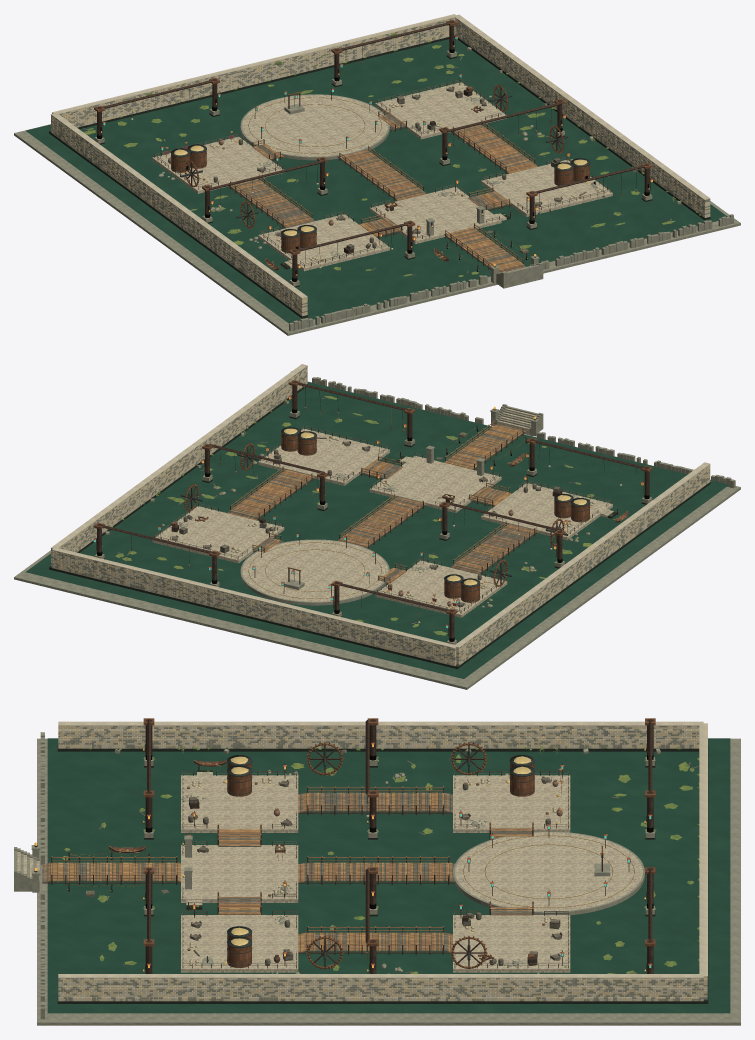
The model's file is mill-cellar.glb.
3 renders of one model, top to bottom at view 1: azimuth 30°, elevation 25°; view 2: azimuth 150°, elevation 25°; view 3: azimuth 270°, elevation 25°, orthographic. The views are drawn at different scales.
Parts seen in each view (by area): view 1: Water surface | water, Raised flagstone rooms | paving, Boundary / individual masonry blocks | stone, Boundary / individual masonry blocks | plaster, Boundary / individual masonry blocks | wall, Spirit arena paved surface | paving, Cellar foundation | stone, Boundary / wall coping | plaster, Bridge / separate deck boards | wood_weathered, Bridge / separate deck boards | plank, Bridge / separate deck boards | wood_light, Boundary / ruined parapet | stone (+14 smaller); view 2: Water surface | water, Raised flagstone rooms | paving, Cellar foundation | stone, Boundary / individual masonry blocks | plaster, Boundary / individual masonry blocks | stone, Boundary / individual masonry blocks | wall, Spirit arena paved surface | paving, Boundary / wall coping | plaster, Bridge / separate deck boards | wood_weathered, Bridge / separate deck boards | plank, Bridge / separate deck boards | wood_light, Wall damp band | wetstone (+12 smaller); view 3: Water surface | water, Raised flagstone rooms | paving, Cellar foundation | stone, Boundary / individual masonry blocks | plaster, Boundary / individual masonry blocks | stone, Boundary / individual masonry blocks | wall, Spirit arena paved surface | paving, Boundary / wall coping | plaster, Bridge / separate deck boards | wood_weathered, Bridge / separate deck boards | plank, Bridge / separate deck boards | wood_light, Wall damp band | wetstone (+19 smaller).
Boxes of the visible parts, x1,y1,x2,y2 form: Water surface | water: (26, 37, 727, 323); Raised flagstone rooms | paving: (152, 82, 612, 271); Boundary / individual masonry blocks | stone: (51, 18, 710, 312); Boundary / individual masonry blocks | plaster: (51, 17, 710, 316); Boundary / individual masonry blocks | wall: (51, 18, 710, 314); Spirit arena paved surface | paving: (242, 95, 388, 156); Cellar foundation | stone: (14, 124, 740, 335); Boundary / wall coping | plaster: (51, 14, 710, 298); Bridge / separate deck boards | wood_weathered: (229, 113, 531, 272); Bridge / separate deck boards | plank: (230, 115, 537, 269); Bridge / separate deck boards | wood_light: (233, 113, 535, 272); Boundary / ruined parapet | stone: (289, 214, 733, 331); Water surface | water: (25, 382, 728, 678); Raised flagstone rooms | paving: (152, 428, 612, 617); Cellar foundation | stone: (14, 381, 740, 689); Boundary / individual masonry blocks | plaster: (51, 369, 710, 665); Boundary / individual masonry blocks | stone: (51, 366, 710, 666); Boundary / individual masonry blocks | wall: (51, 367, 710, 665); Spirit arena paved surface | paving: (242, 540, 388, 601); Boundary / wall coping | plaster: (51, 364, 709, 648); Bridge / separate deck boards | wood_weathered: (228, 424, 537, 582); Bridge / separate deck boards | plank: (228, 425, 534, 582); Bridge / separate deck boards | wood_light: (234, 424, 538, 582); Wall damp band | wetstone: (49, 383, 710, 668); Water surface | water: (47, 738, 730, 1013); Raised flagstone rooms | paving: (181, 775, 570, 972); Cellar foundation | stone: (37, 738, 740, 1025); Boundary / individual masonry blocks | plaster: (58, 726, 707, 1001); Boundary / individual masonry blocks | stone: (58, 726, 707, 1001); Boundary / individual masonry blocks | wall: (58, 726, 707, 1001); Spirit arena paved surface | paving: (455, 832, 642, 911); Boundary / wall coping | plaster: (58, 721, 707, 978); Bridge / separate deck boards | wood_weathered: (42, 792, 532, 951); Bridge / separate deck boards | plank: (51, 792, 532, 952); Bridge / separate deck boards | wood_light: (44, 792, 532, 952); Wall damp band | wetstone: (57, 745, 708, 1003).
Bounding box in the file's own units: 126 × 11.05 × 136.
Materials: 32 (32 with a texture image).
